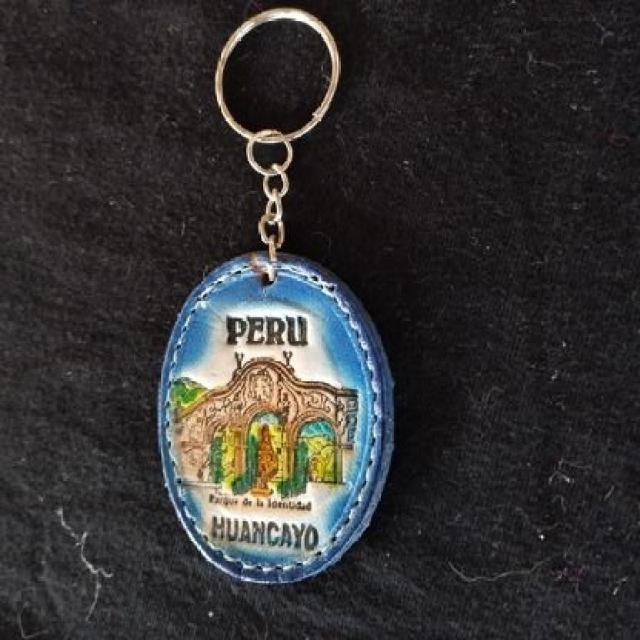Llavero: (156, 249, 396, 586)
